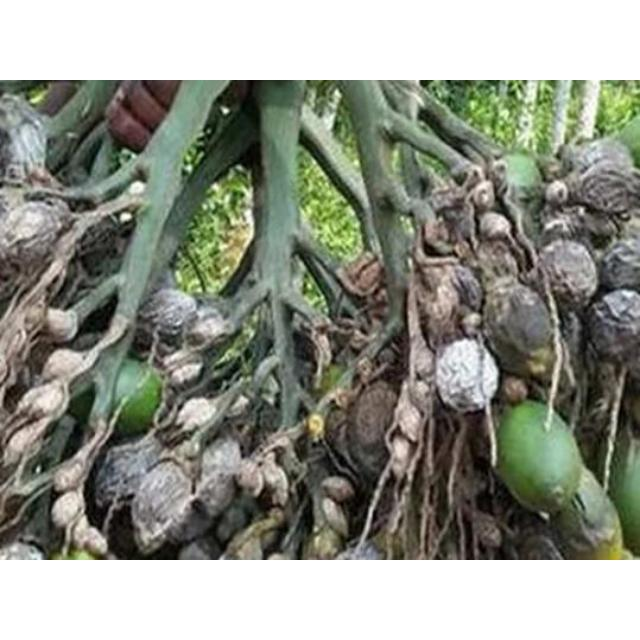damaged: (138, 287, 232, 365), (550, 471, 620, 559), (132, 457, 198, 549), (435, 336, 501, 414), (416, 252, 476, 336), (488, 286, 554, 362), (379, 388, 429, 486), (92, 439, 156, 515), (501, 451, 571, 517), (100, 362, 163, 434), (574, 367, 616, 465), (585, 290, 639, 366), (350, 386, 398, 470), (473, 213, 529, 285), (4, 202, 64, 268), (75, 214, 133, 282), (539, 239, 597, 305), (292, 312, 336, 388), (224, 510, 288, 560), (114, 80, 174, 130), (502, 510, 560, 560), (578, 166, 634, 217), (362, 482, 403, 546), (556, 310, 588, 390), (104, 505, 150, 559), (569, 138, 631, 178), (435, 192, 479, 248), (598, 240, 640, 298), (106, 103, 154, 151), (608, 422, 634, 506), (542, 204, 588, 246), (323, 403, 355, 461), (34, 82, 82, 118), (451, 460, 485, 510), (498, 153, 540, 193), (1, 321, 31, 375), (50, 452, 90, 492), (174, 398, 218, 434), (42, 348, 88, 382), (216, 504, 254, 544), (30, 382, 68, 420), (580, 207, 620, 243), (36, 255, 68, 299), (146, 266, 180, 306), (250, 354, 284, 394), (422, 218, 458, 255), (5, 423, 41, 459), (50, 492, 84, 530), (396, 396, 426, 439), (468, 419, 496, 465), (320, 494, 350, 534), (410, 336, 436, 382), (44, 308, 80, 340), (308, 529, 342, 561), (71, 519, 103, 553), (352, 257, 382, 293), (1, 492, 30, 528), (260, 459, 288, 496), (58, 429, 86, 465), (264, 432, 296, 462), (372, 342, 402, 374), (236, 465, 264, 499), (341, 538, 384, 560), (320, 476, 356, 502), (480, 212, 512, 240), (468, 178, 496, 210), (25, 165, 59, 191), (408, 378, 432, 414), (1, 540, 44, 560), (476, 518, 502, 550), (22, 304, 48, 336), (68, 331, 102, 354), (538, 155, 564, 183), (352, 356, 376, 386), (544, 180, 570, 207), (227, 392, 253, 418), (449, 162, 475, 188), (438, 532, 462, 560), (226, 80, 250, 108), (556, 144, 578, 168), (306, 413, 324, 441), (180, 440, 202, 460), (128, 180, 146, 200), (49, 550, 70, 560)
